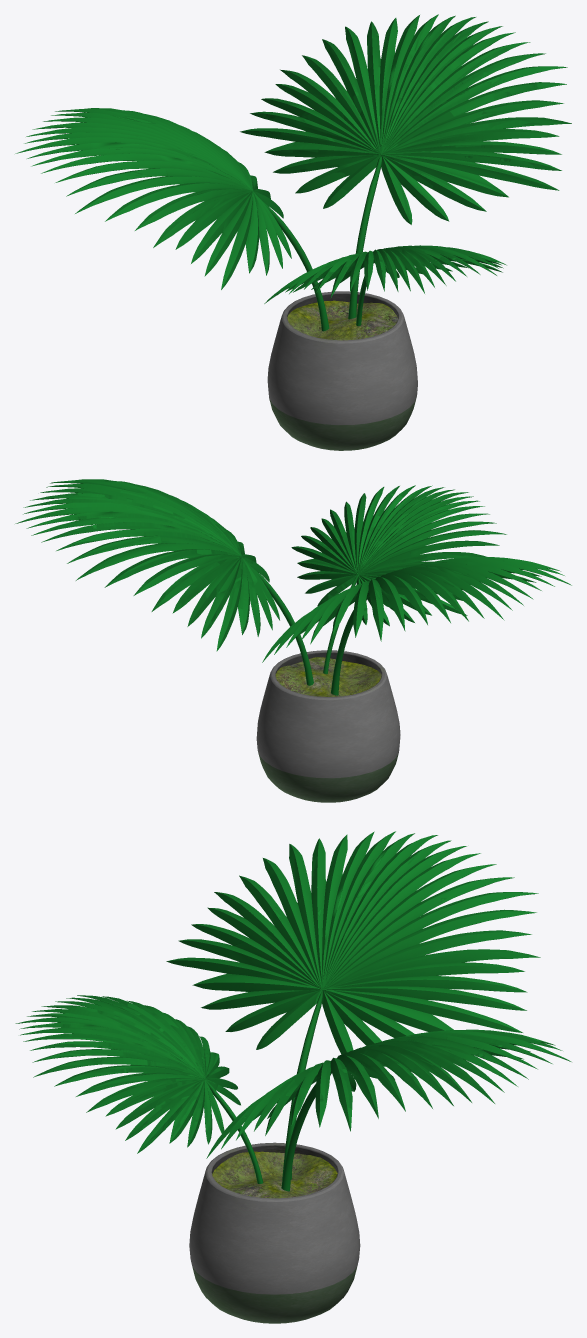
Rendered from realistic_palm.glb.
The picture shows the model from 3 angles, top to bottom: view 1: azimuth 30°, elevation 25°; view 2: azimuth 150°, elevation 25°; view 3: azimuth 270°, elevation 25°; orthographic projection. The views are drawn at different scales.
Parts seen in each view (by area): view 1: palm_voxel_remesh.005, palm_vase; view 2: palm_voxel_remesh.005, palm_vase; view 3: palm_voxel_remesh.005, palm_vase.
Part boxes in pixels (x1,y1,x2,y2): palm_voxel_remesh.005: [15, 14, 571, 331]; palm_vase: [267, 291, 417, 450]; palm_voxel_remesh.005: [15, 479, 571, 695]; palm_vase: [256, 650, 400, 802]; palm_voxel_remesh.005: [15, 831, 571, 1191]; palm_vase: [189, 1142, 360, 1323].
Bounding box in the file's own units: 0.6409 × 0.3593 × 0.525.
2 materials, 2 textured.
